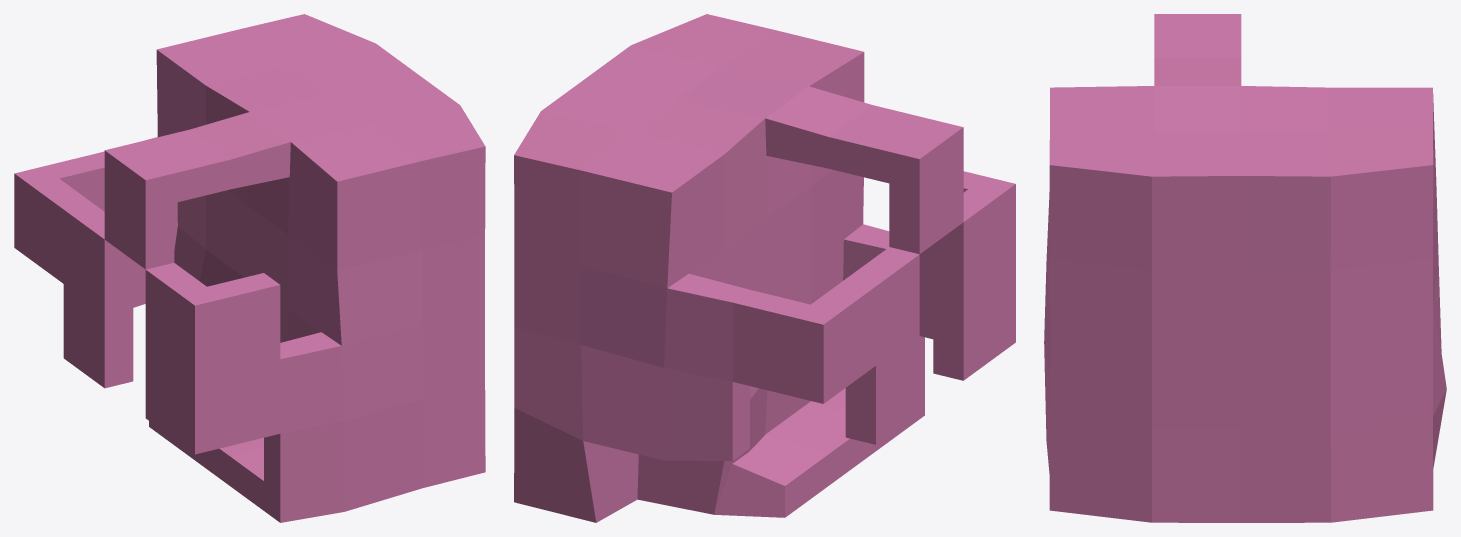
The model's file is UFO1.Piece.03.fbx.
3 renders of one model, left to right at view 1: azimuth 30°, elevation 25°; view 2: azimuth 150°, elevation 25°; view 3: azimuth 270°, elevation 25°, orthographic. The views are drawn at different scales.
Parts seen in each view (by area): view 1: UFO1.Piece.03; view 2: UFO1.Piece.03; view 3: UFO1.Piece.03.
Boxes of the visible parts, <box> form: UFO1.Piece.03: <box>14,14,485,522</box>; UFO1.Piece.03: <box>514,14,1015,522</box>; UFO1.Piece.03: <box>1044,14,1446,522</box>.
Bounding box in the file's own units: 220 × 230 × 231.
